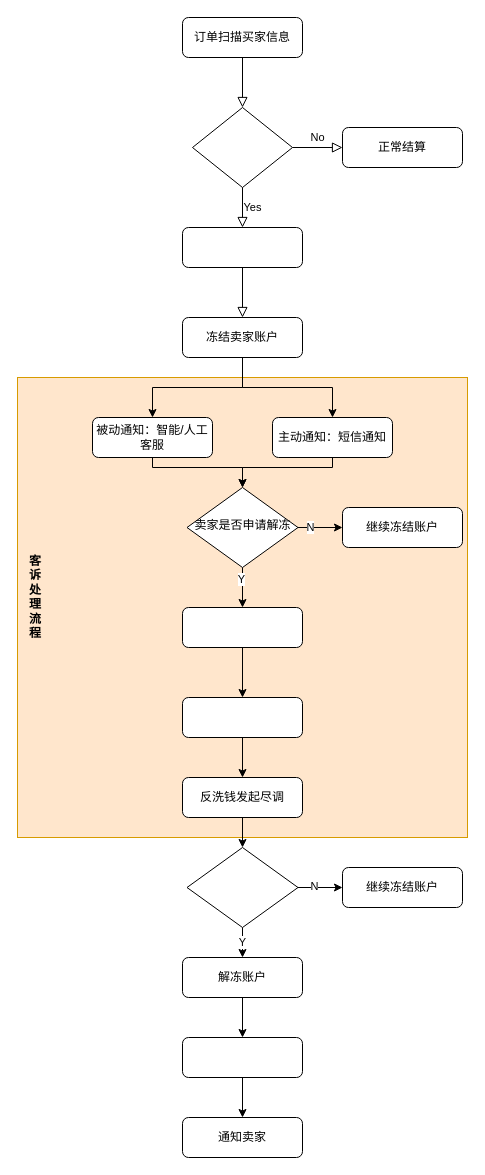
This 485x1175 diagram has some shape labels left out. Here are the shapes that lost their labels. From the top down, the centre of each, then its label:
At pixel 242 147: "是否涉恐".
At pixel 242 247: "冻结卖家订单".
At pixel 242 627: "添加客服企业 微信，沟通客诉内容".
At pixel 242 717: "客服发起三方回话".
At pixel 242 887: "是否误冻结".
At pixel 242 1057: "解冻订单".
